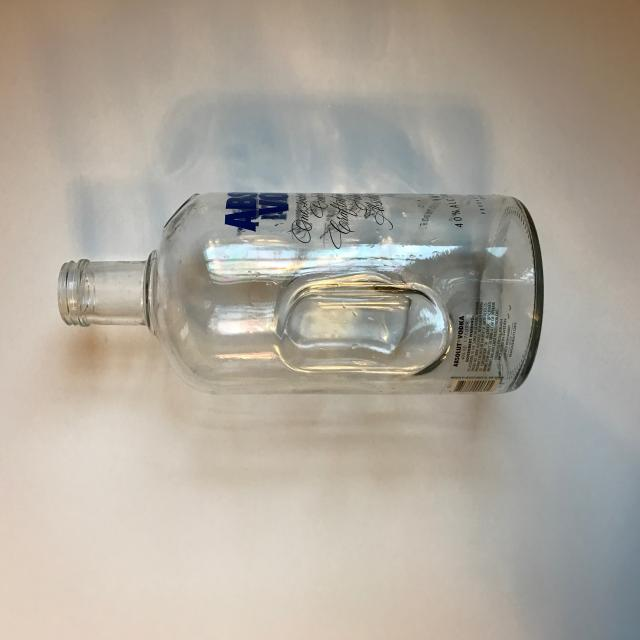glass: (57, 190, 544, 396)
